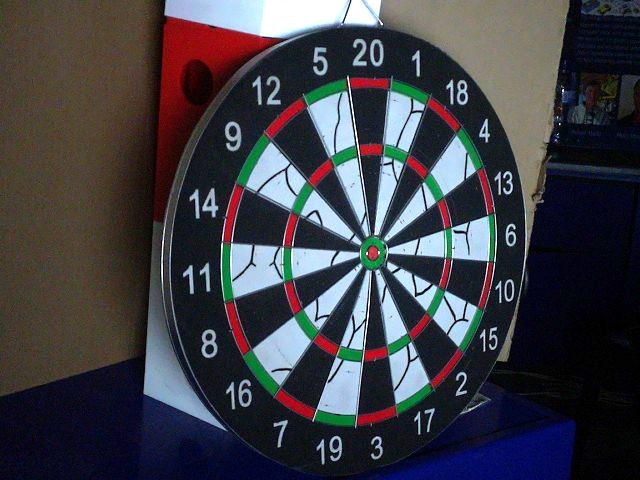single_3: (362, 357, 394, 410), (369, 288, 385, 344)
